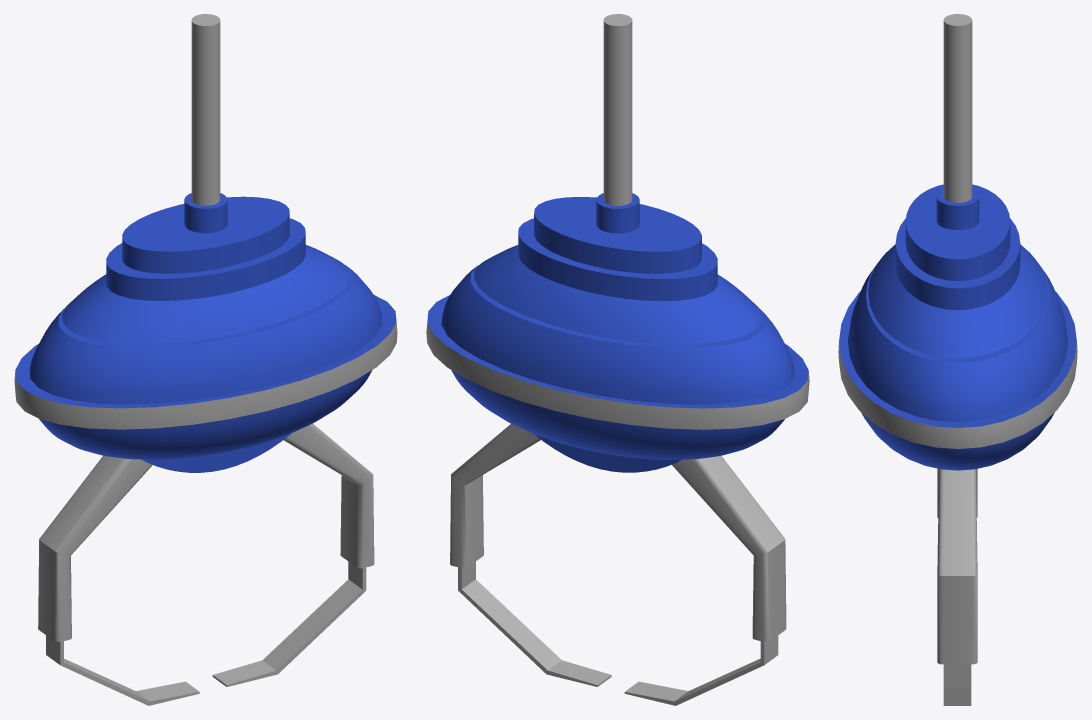
File: UFONEO.fbx
The picture shows the model from 3 angles, left to right: view 1: azimuth 30°, elevation 25°; view 2: azimuth 150°, elevation 25°; view 3: azimuth 270°, elevation 25°; orthographic projection.
Parts seen in each view (by area): view 1: head, armR, armL; view 2: head, armR, armL; view 3: head, armL.
Part boxes in pixels (x1,y1,x2,y2): head: (14,14,397,472); armR: (38,455,199,705); armL: (212,423,374,686); head: (426,14,809,472); armR: (624,455,786,705); armL: (450,424,611,686); head: (838,14,1077,470); armL: (937,469,977,705).
Bounding box in the file's own units: 432 × 753 × 249.
